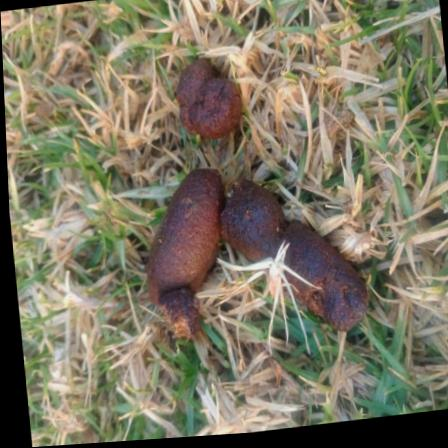dog-poop: (130, 145, 369, 365), (169, 62, 240, 141)
